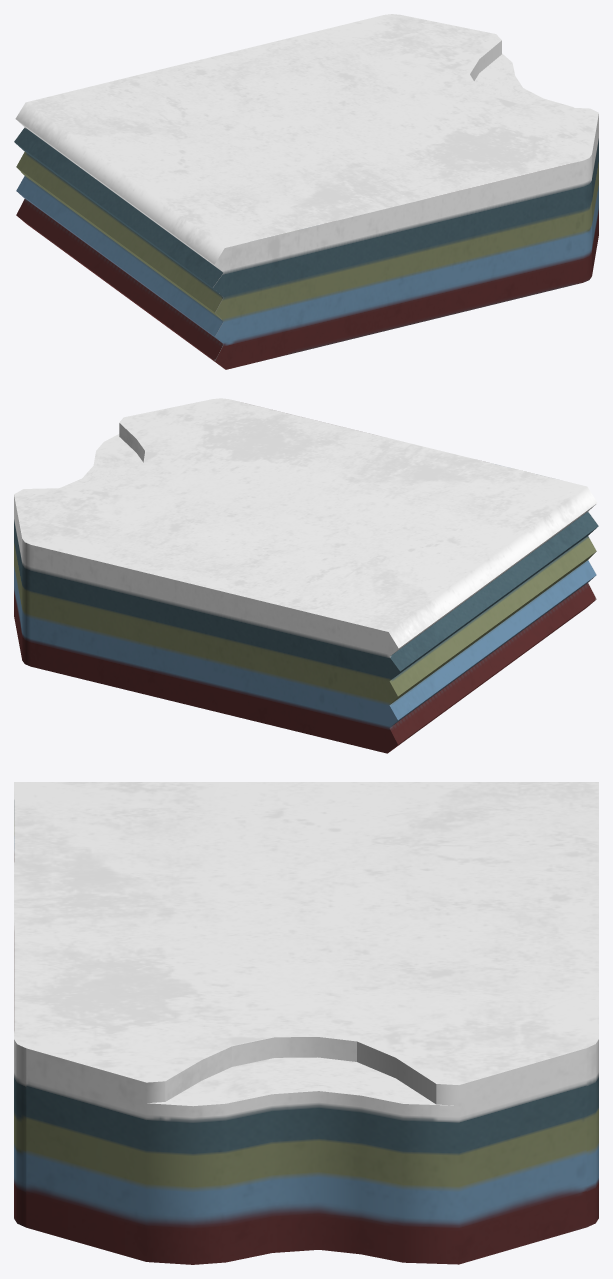
File: SM_Shirt_Stack_01.fbx
3 views of the same model, one above another, from view 1: azimuth 30°, elevation 25°; view 2: azimuth 150°, elevation 25°; view 3: azimuth 270°, elevation 25° (orthographic). The views are drawn at different scales.
Parts seen in each view (by area): view 1: SM_Shirt_Stack_01_LOD0; view 2: SM_Shirt_Stack_01_LOD0; view 3: SM_Shirt_Stack_01_LOD0.
Boxes of the visible parts, x1,y1,x2,y2 form: SM_Shirt_Stack_01_LOD0: (14,14,598,369); SM_Shirt_Stack_01_LOD0: (14,398,598,753); SM_Shirt_Stack_01_LOD0: (14,782,598,1264).
Size of the model in its own units: 42.57 by 33.74 by 11.41.
Materials: 1 (1 with a texture image).
